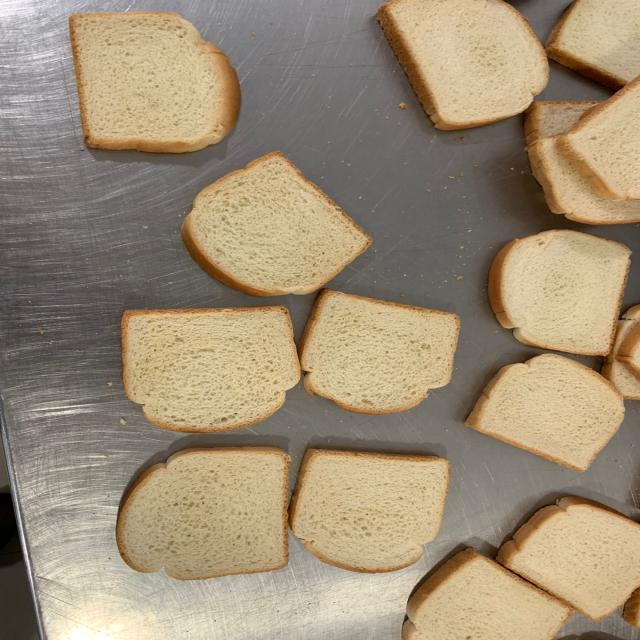pan: (182, 151, 374, 297), (68, 11, 242, 152), (116, 446, 291, 581), (376, 0, 550, 131), (120, 306, 300, 432), (288, 448, 450, 574), (299, 290, 462, 413), (463, 353, 625, 471), (489, 229, 633, 356)
